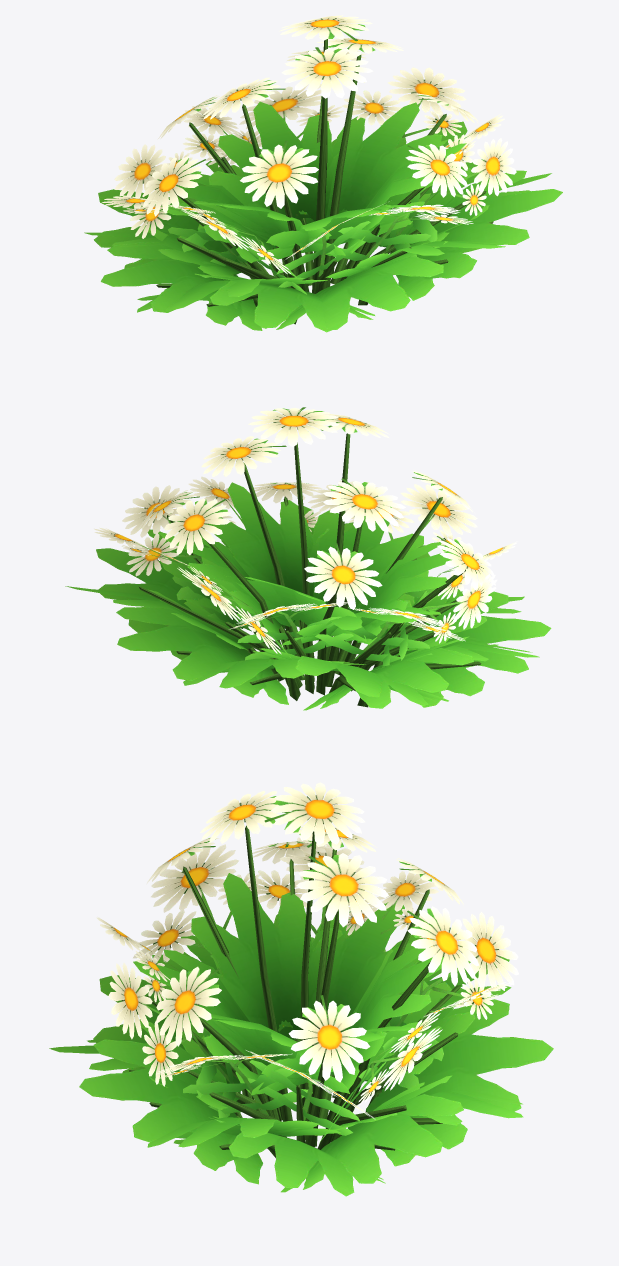
Rendered from daisy-Bt2fToQ4.glb.
The picture shows the model from 3 angles, top to bottom: view 1: azimuth 30°, elevation 25°; view 2: azimuth 150°, elevation 25°; view 3: azimuth 270°, elevation 25°; orthographic projection. The views are drawn at different scales.
Parts seen in each view (by area): view 1: DaisyFoliage, DaisyStems; view 2: DaisyFoliage, DaisyStems; view 3: DaisyFoliage, DaisyStems.
Part boxes in pixels (left/top/right/bottom): DaisyFoliage: left=84, top=15, right=562, bottom=332; DaisyStems: left=156, top=39, right=493, bottom=324; DaisyFoliage: left=65, top=407, right=551, bottom=710; DaisyStems: left=139, top=433, right=481, bottom=707; DaisyFoliage: left=49, top=782, right=553, bottom=1196; DaisyStems: left=129, top=823, right=460, bottom=1158.
Bounding box in the file's own units: 0.97 × 0.47 × 0.72.
Materials: 2 (2 with a texture image).
